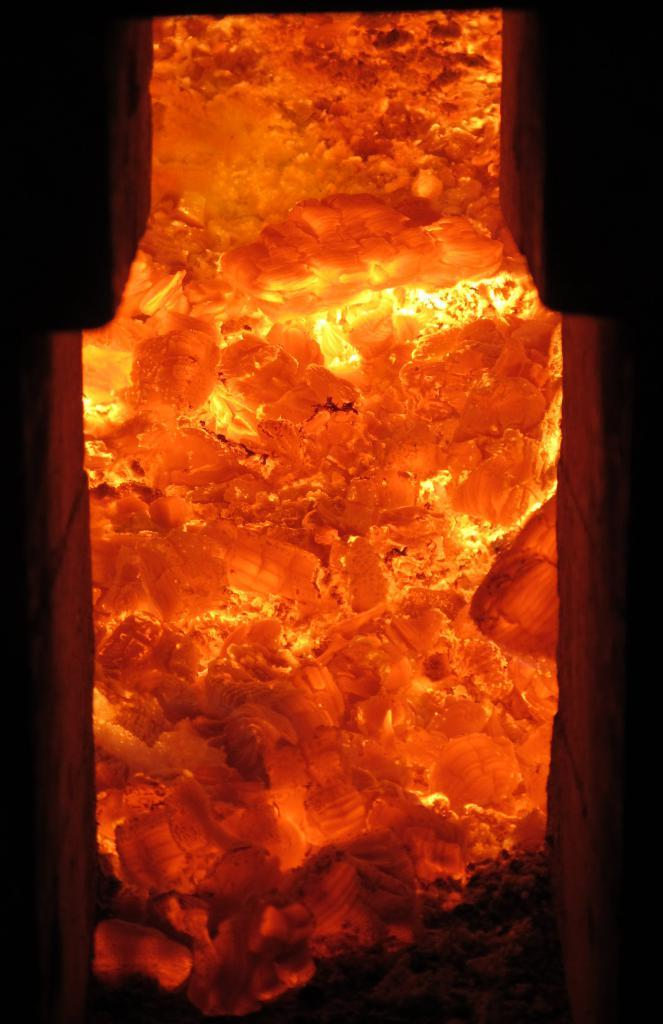Fire: (62, 5, 563, 1005)
